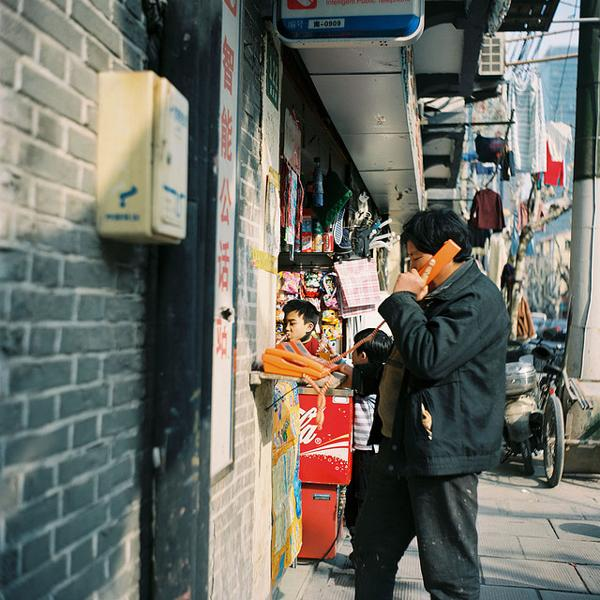person: (333, 208, 508, 600)
